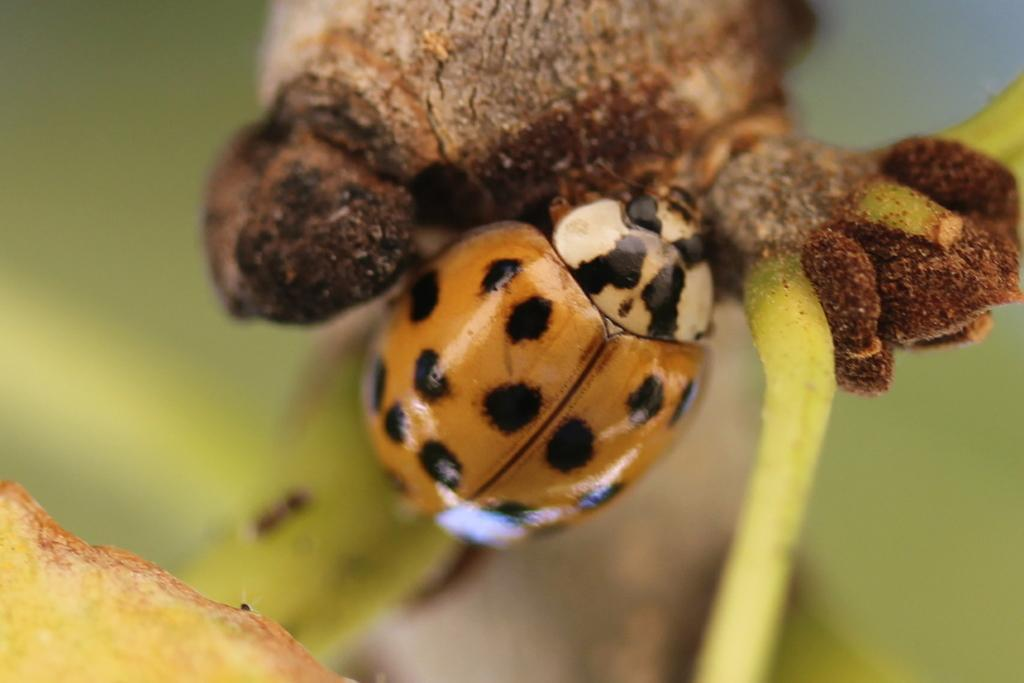ladybug: (351, 169, 733, 563)
